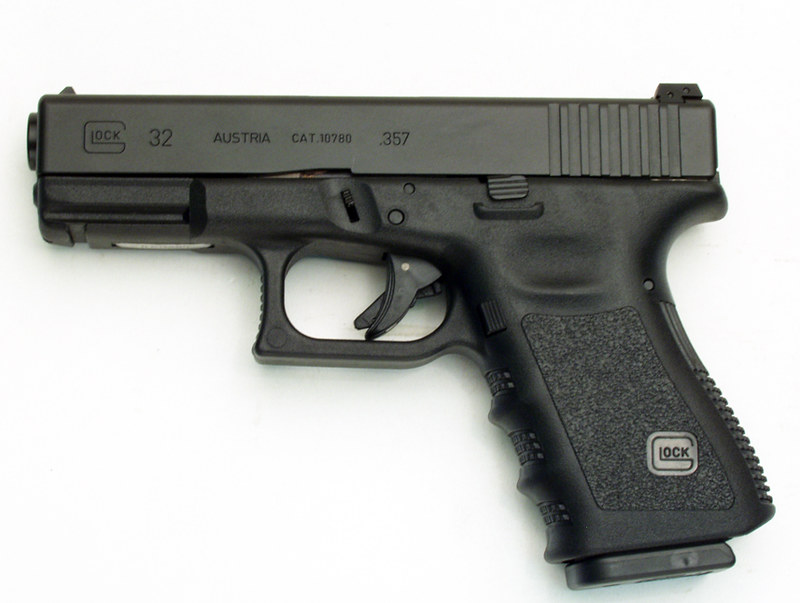gun: (17, 76, 786, 593)
